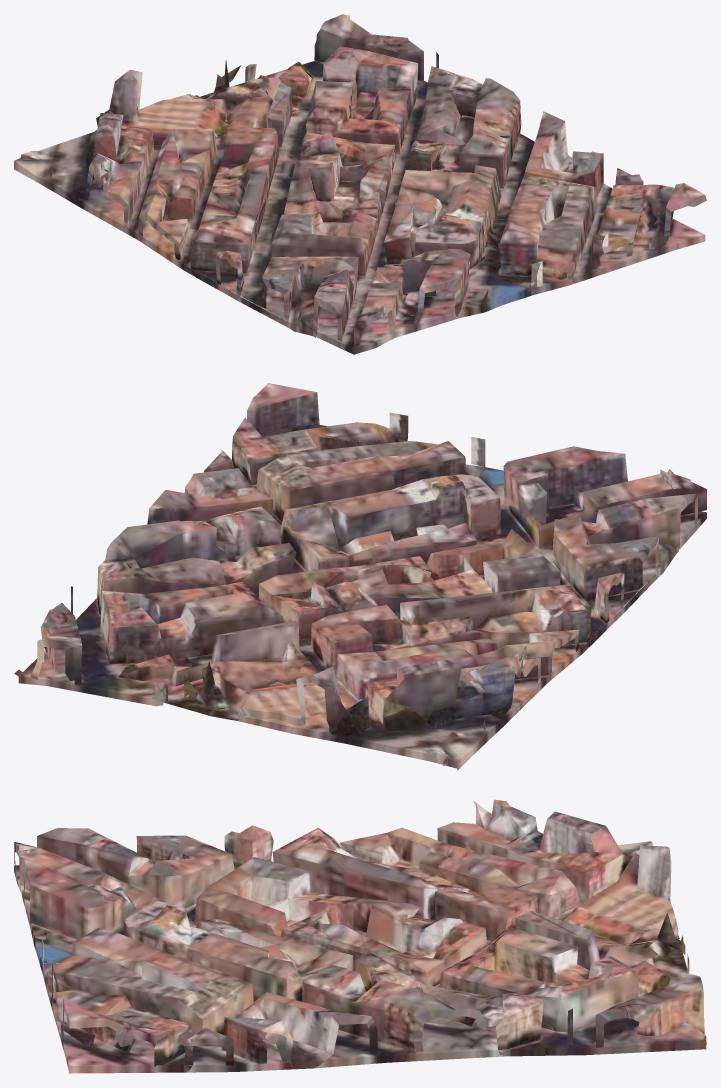
3 renders of one model, top to bottom at view 1: azimuth 30°, elevation 25°; view 2: azimuth 150°, elevation 25°; view 3: azimuth 270°, elevation 25°, orthographic. The views are drawn at different scales.
Parts seen in each view (by area): view 1: Mesh_0; view 2: Mesh_0; view 3: Mesh_0.
Part boxes in pixels (x1=…): Mesh_0: x1=14, y1=14, x2=706, y2=354; Mesh_0: x1=14, y1=383, x2=706, y2=770; Mesh_0: x1=14, y1=799, x2=706, y2=1073.
Size of the model in its own units: 267 by 39.71 by 330.
Materials: 2 (2 with a texture image).
